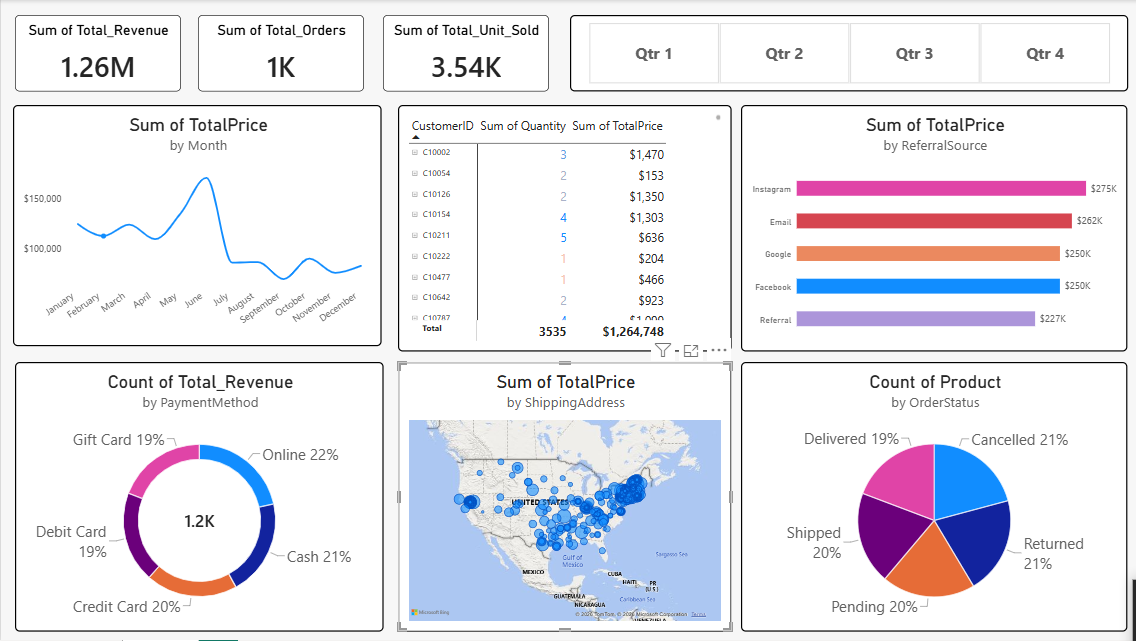

This screenshot's page, from the dashboard's own definition file:
{"tool":"powerbi","page":{"name":"Page 1","canvas":[1920,1080],"ordinal":0},"visuals":[{"type":"cardVisual","title":"Sum of Total_Revenue","fields":{"Data":["Sum(High Level Summary.Total_Revenue)"]},"box":[23,25.3,280.2,128.6],"z":0},{"type":"lineChart","fields":{"Y":["Sum(project  data. TotalPrice )"],"Category":["project  data.Date.Variation.Date Hierarchy.Month"]},"box":[20.7,176.8,622.4,406.5],"z":2000},{"type":"donutChart","fields":{"Category":["project  data.PaymentMethod"],"Y":["CountNonNull(project  data.Total_Revenue)"]},"box":[23,610.9,622.4,454.7],"z":3000},{"type":"cardVisual","title":"Sum of Total_Unit_Sold","fields":{"Data":["Sum(High Level Summary.Total_Units_Sold)"]},"box":[645.4,25.3,280.2,128.6],"z":4000},{"type":"cardVisual","title":"Sum of Total_Orders","fields":{"Data":["Sum(High Level Summary.Total_Orders)"]},"box":[333,25.3,280.2,128.6],"z":5000},{"type":"slicer","fields":{"Values":["project  data.Date.Variation.Date Hierarchy.Quarter"]},"box":[960,25.3,941.6,128.6],"z":6000},{"type":"pieChart","fields":{"Category":["project  data.OrderStatus"],"Y":["CountNonNull(project  data.Product)"]},"box":[1249.4,610.9,652.2,454.7],"z":7000},{"type":"barChart","fields":{"Category":["project  data.ReferralSource"],"Y":["Sum(project  data. TotalPrice )"]},"box":[1249.4,176.8,652.2,415.7],"z":7001},{"type":"pivotTable","fields":{"Values":["Sum(project  data.Quantity)","Sum(project  data. TotalPrice )"],"Rows":["project  data.CustomerID","project  data.OrderID","High Level Summary.Total_Orders"]},"box":[670.6,176.8,562.7,415.7],"z":7002},{"type":"map","fields":{"Size":["Sum(project  data. TotalPrice )"],"Category":["project  data.ShippingAddress"]},"box":[670.6,610.9,562.7,454.7],"z":7003}]}

Visuals, with their boxes in screenshot pixels (x1, y1, x2, y2), scaled from the page's 1920x1080 canvas onto the 1136x641 screenshot:
"Sum of Total_Revenue" cardVisual: (14, 15, 179, 91)
lineChart - Sum(project  data. TotalPrice ) x project  data.Date.Variation.Date Hierarchy.Month: (12, 105, 381, 346)
donutChart - project  data.PaymentMethod x CountNonNull(project  data.Total_Revenue): (14, 363, 382, 632)
"Sum of Total_Unit_Sold" cardVisual: (382, 15, 548, 91)
"Sum of Total_Orders" cardVisual: (197, 15, 363, 91)
slicer - project  data.Date.Variation.Date Hierarchy.Quarter: (568, 15, 1125, 91)
pieChart - project  data.OrderStatus x CountNonNull(project  data.Product): (739, 363, 1125, 632)
barChart - project  data.ReferralSource x Sum(project  data. TotalPrice ): (739, 105, 1125, 352)
pivotTable - Sum(project  data.Quantity) x Sum(project  data. TotalPrice ): (397, 105, 730, 352)
map - Sum(project  data. TotalPrice ) x project  data.ShippingAddress: (397, 363, 730, 632)
